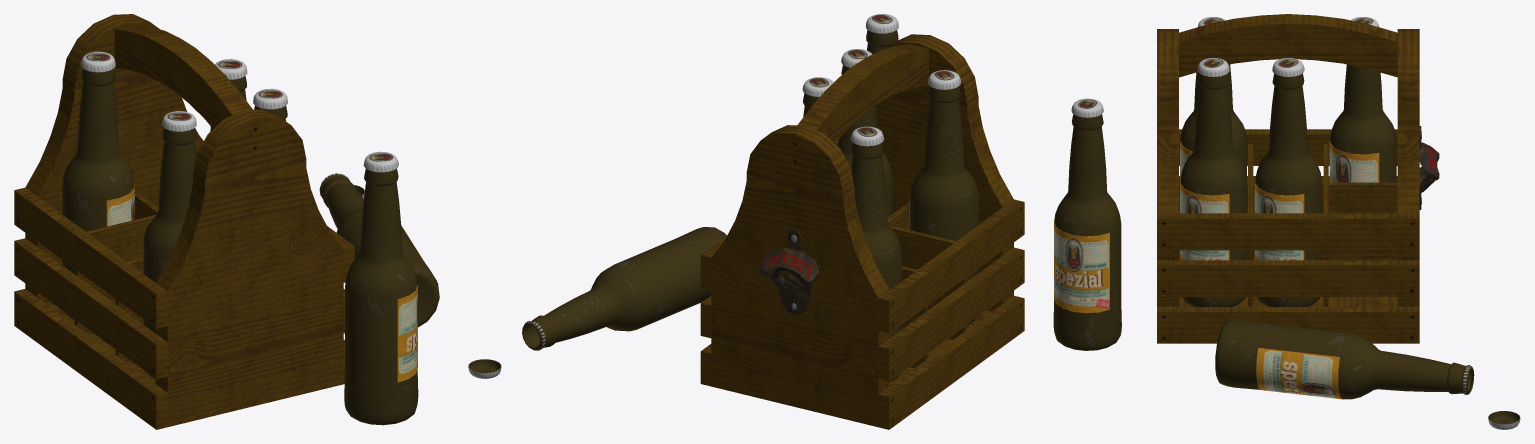
The model's file is beercarrier.fbx.
3 views of the same model, side by side, from view 1: azimuth 30°, elevation 25°; view 2: azimuth 150°, elevation 25°; view 3: azimuth 270°, elevation 25° (orthographic). The views are drawn at different scales.
Parts seen in each view (by area): view 1: Crate, Beer.005, Beer.004, Beer, Beer.003, Lid.004, Lid.002, Lid.005, Lid, Lid.001; view 2: Crate, Beer.003, Beer, Beer.004, Beer.002, Lid.003, Lid.004, Lid.005, Lid, Beer.005; view 3: Crate, Beer.003, Beer.005, Beer.001, Beer.002, Beer.004, Beer, Lid.005, Lid.001, Lid.002, Lid.003.
Boxes of the visible parts, box(x1,y1,x2,y2) form: Crate: box(14, 14, 354, 429); Beer.005: box(344, 168, 418, 425); Beer.004: box(62, 68, 134, 320); Beer: box(143, 128, 196, 379); Beer.003: box(319, 173, 439, 327); Lid.004: box(81, 51, 115, 72); Lid.002: box(253, 88, 287, 109); Lid.005: box(363, 151, 398, 172); Lid: box(162, 111, 196, 131); Lid.001: box(215, 59, 247, 79); Crate: box(700, 34, 1024, 429); Beer.003: box(522, 227, 726, 350); Beer: box(909, 86, 978, 325); Beer.004: box(851, 142, 901, 381); Beer.002: box(838, 65, 892, 217); Lid.003: box(468, 359, 501, 378); Lid.004: box(850, 126, 884, 146); Lid.005: box(865, 14, 898, 33); Lid: box(927, 70, 961, 89); Beer.005: box(866, 30, 898, 54); Crate: box(1157, 14, 1439, 343); Beer.003: box(1215, 319, 1474, 399); Beer.005: box(1053, 114, 1121, 350); Beer.001: box(1254, 73, 1321, 306); Beer.002: box(1180, 73, 1246, 306); Beer.004: box(1329, 64, 1396, 182); Beer: box(1180, 64, 1246, 181); Lid.005: box(1071, 98, 1103, 117); Lid.001: box(1272, 58, 1304, 76); Lid.002: box(1197, 58, 1229, 76); Lid.003: box(1488, 411, 1520, 429).
Size of the model in its own units: 36.97 by 27.22 by 41.08.
3 materials, 3 textured.
